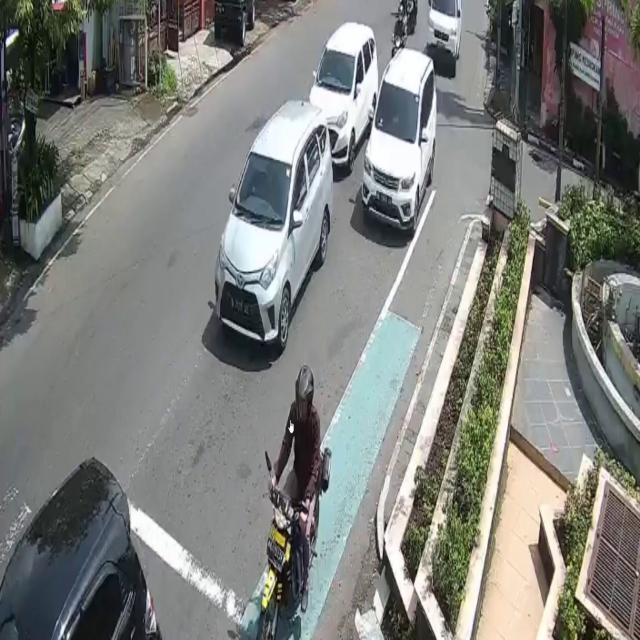bus: (258, 450, 322, 640)
motorcycle: (213, 100, 333, 352), (0, 458, 160, 640), (362, 46, 436, 236), (307, 19, 379, 173), (427, 0, 462, 76)
